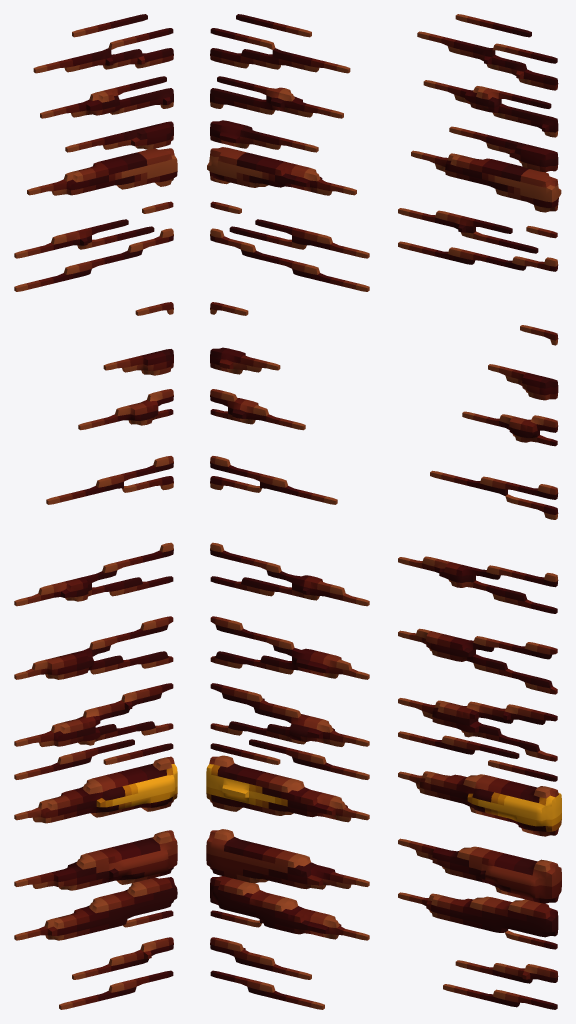
File: Fight_101_3_10.obj
3 views of the same model, side by side, from view 1: azimuth 30°, elevation 25°; view 2: azimuth 150°, elevation 25°; view 3: azimuth 330°, elevation 25° (orthographic).
Bounding box in the file's own units: 2.48 × 14.57 × 0.4838.
1 material, 1 textured.
